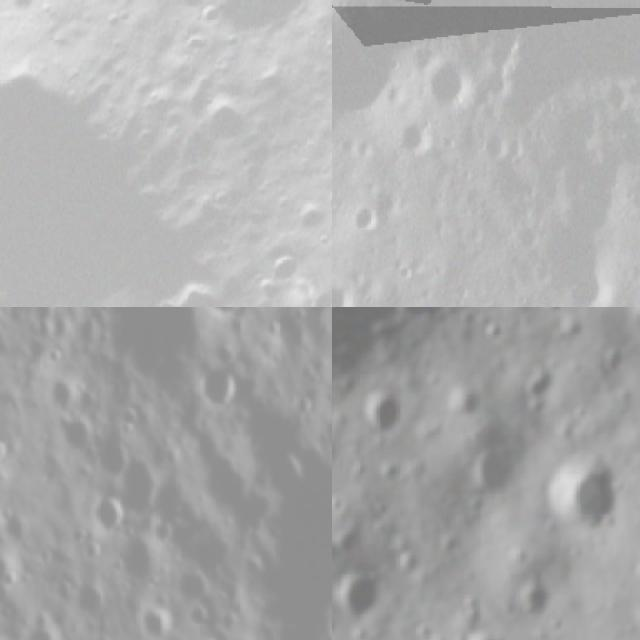crater: (0, 24, 270, 307), (250, 457, 332, 638), (154, 0, 332, 80), (332, 8, 425, 134), (530, 215, 623, 307), (540, 456, 618, 539), (426, 56, 482, 115), (112, 531, 168, 590), (115, 459, 158, 522), (332, 566, 382, 620), (198, 364, 242, 418), (357, 382, 398, 436), (67, 583, 109, 629), (54, 414, 99, 456), (84, 496, 130, 536), (399, 111, 435, 160), (92, 440, 134, 480), (592, 80, 636, 116), (44, 378, 80, 418), (344, 202, 381, 240), (136, 605, 176, 640), (0, 508, 33, 548), (503, 128, 537, 166), (482, 128, 512, 165), (332, 279, 366, 307), (460, 594, 481, 627), (355, 136, 379, 164), (21, 626, 67, 640), (207, 307, 247, 323), (0, 546, 13, 594), (293, 307, 332, 321), (476, 324, 497, 346)
